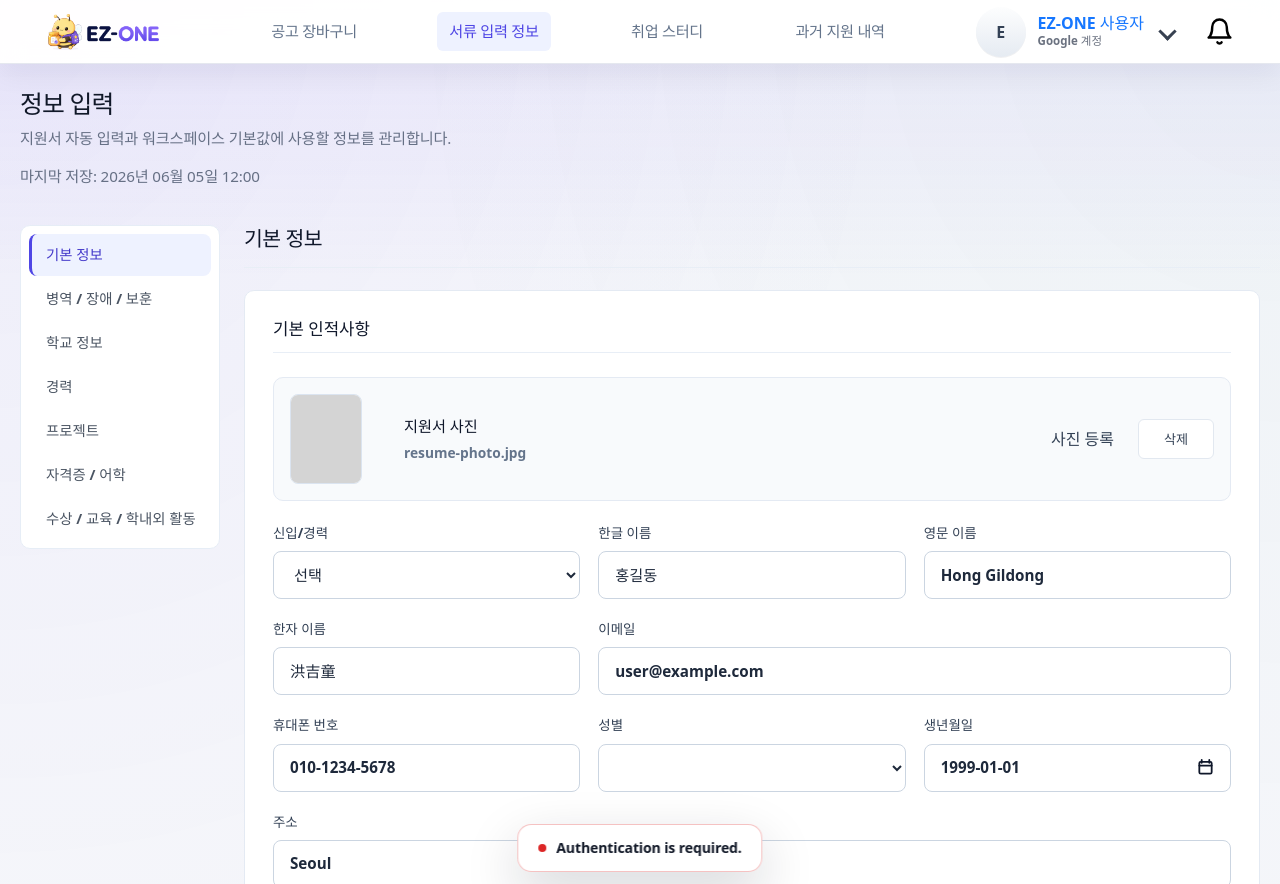
Test case: DocumentProfilePage › PROFILE-011: formats military dates without native date mask corruption
Click the button with test id "section-military" at (120, 299), box [29, 278, 211, 320]
(page scrolled)
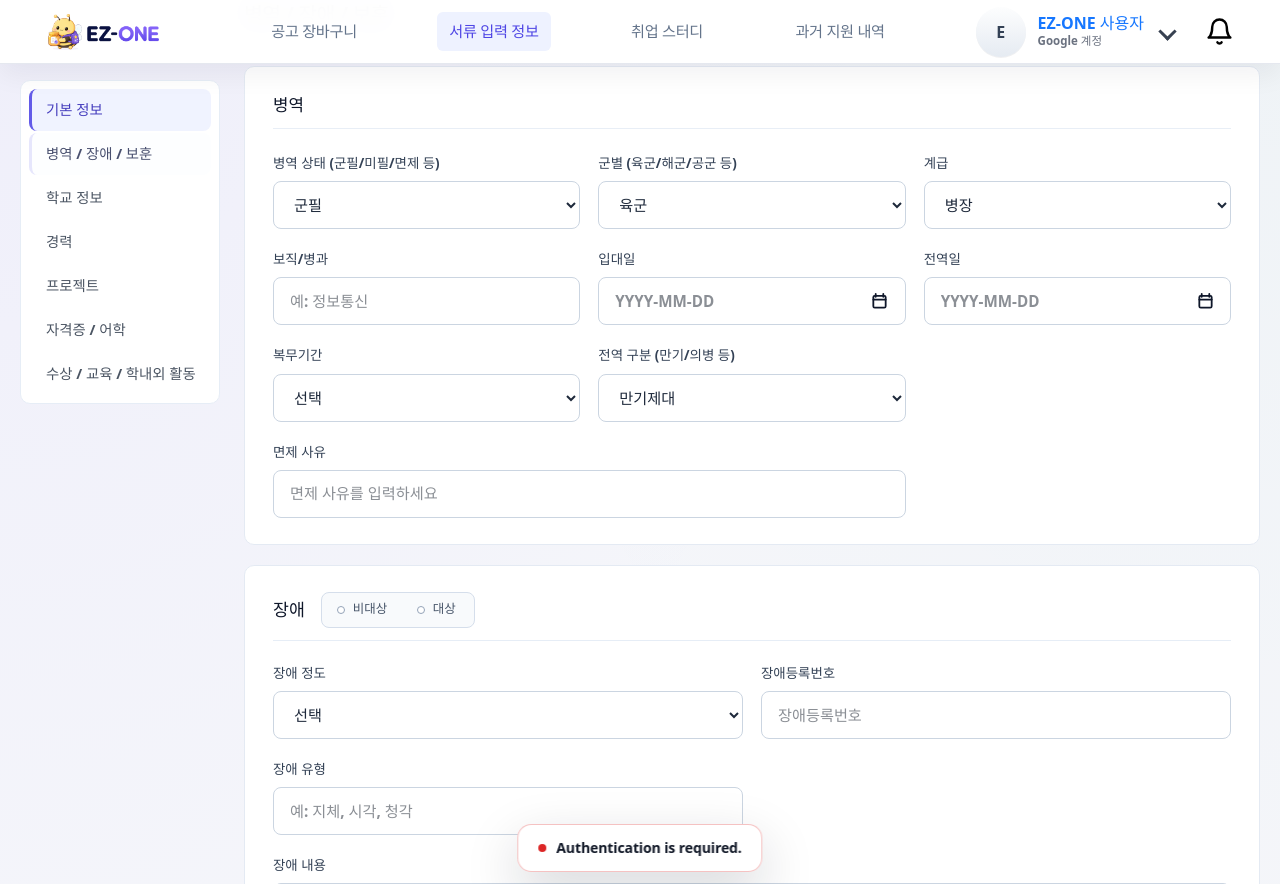
Type "20230707" into the field with test id "military-enlistmentDate" at (752, 301), box [598, 277, 906, 325]
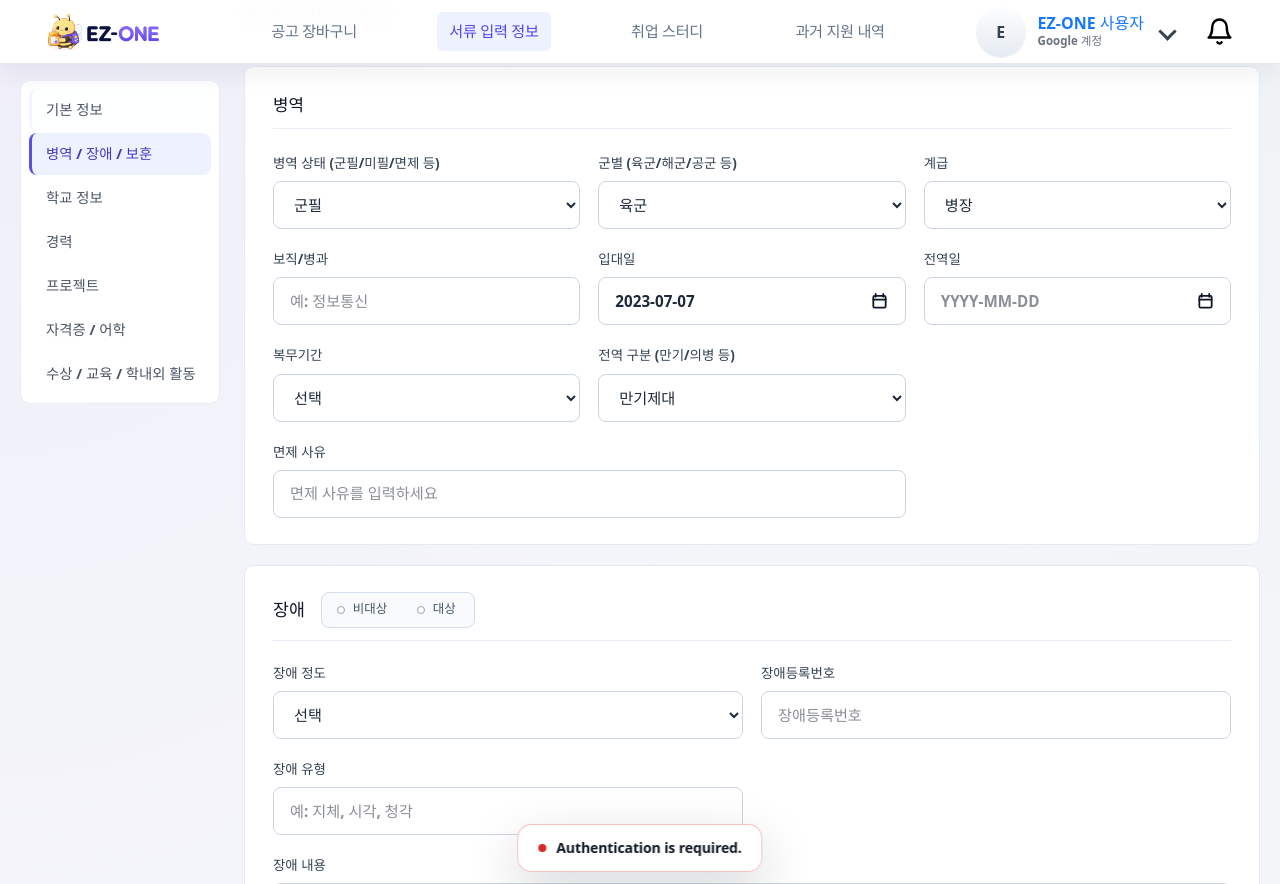
Result: the field with test id "military-enlistmentDate" holds "2023-07-07" at [598, 277, 906, 325]
